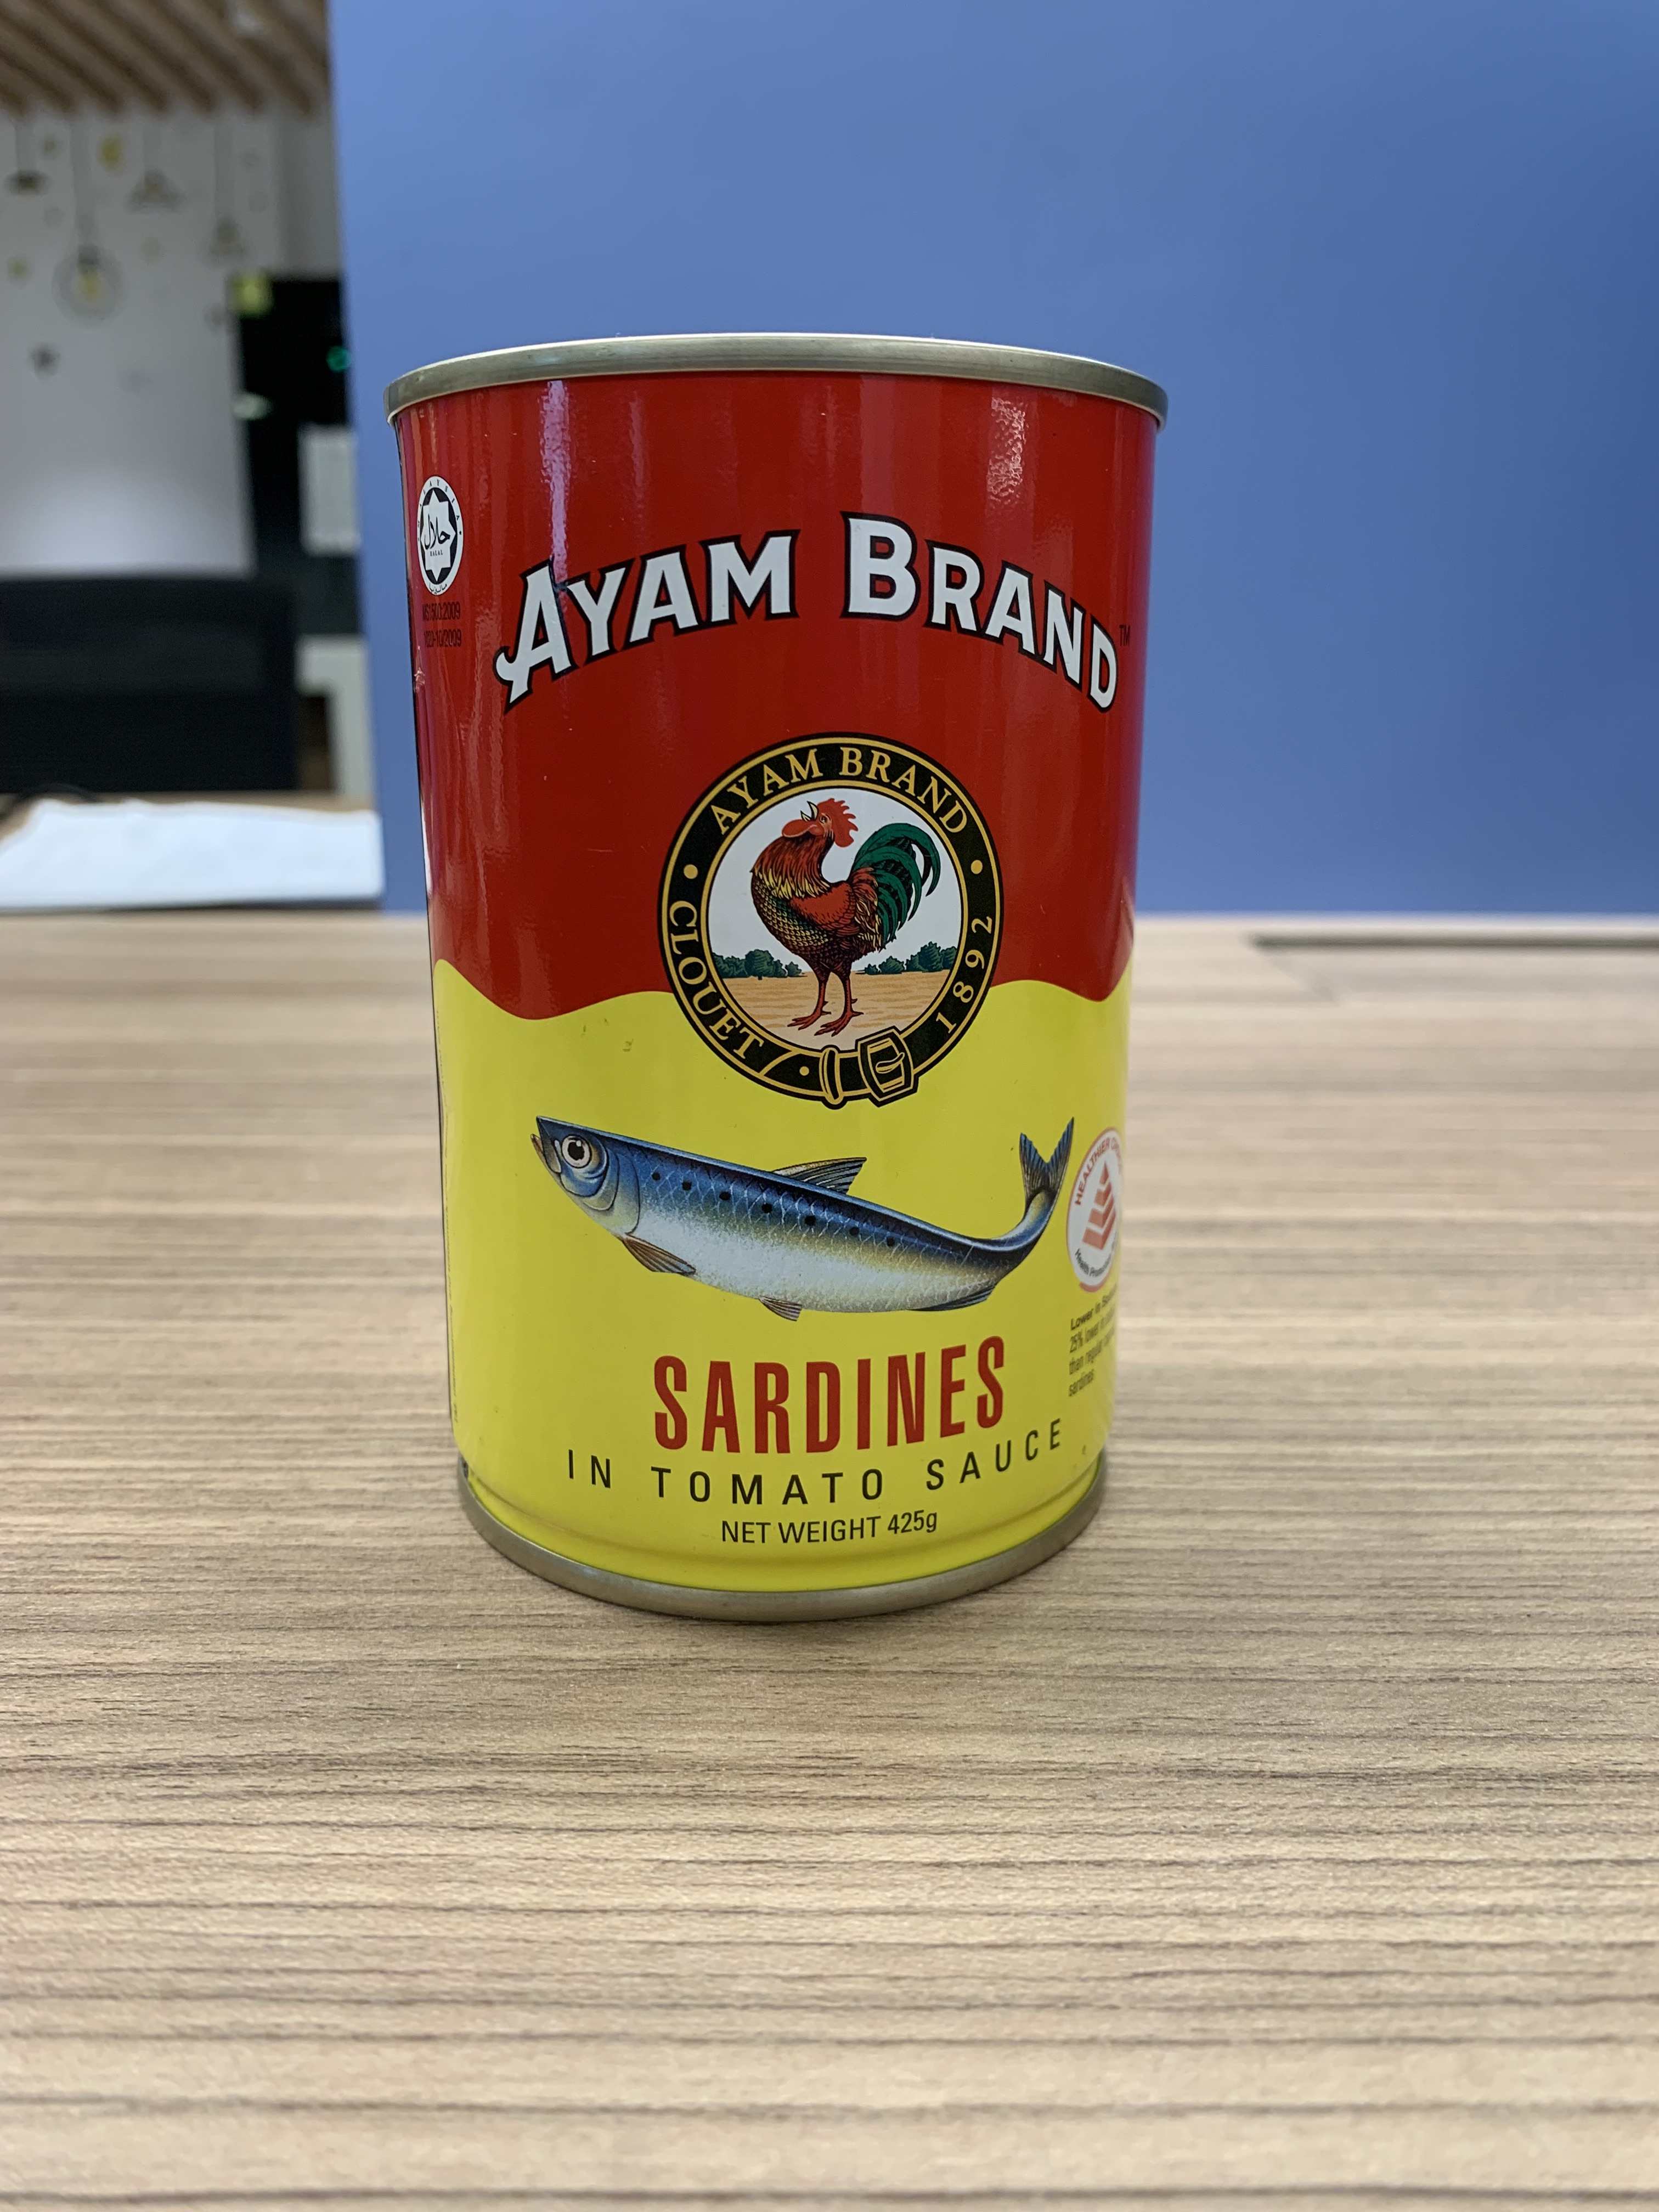sardines_400g-499g: (420, 373, 1129, 1562)
